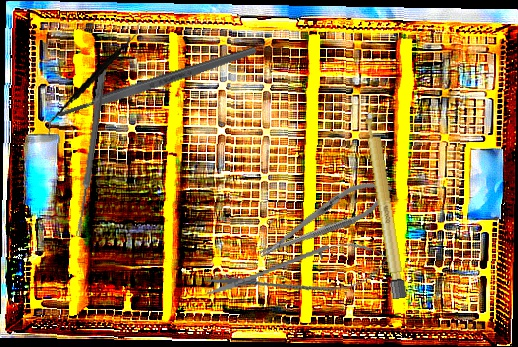Micro Scissor: (200, 234, 396, 312)
Needle Holder: (251, 169, 399, 270)
Scalpel Handle: (55, 44, 259, 121), (362, 109, 408, 300)
Spatula Surgical: (46, 8, 142, 149)
Surgical Spoon: (74, 68, 107, 238)
